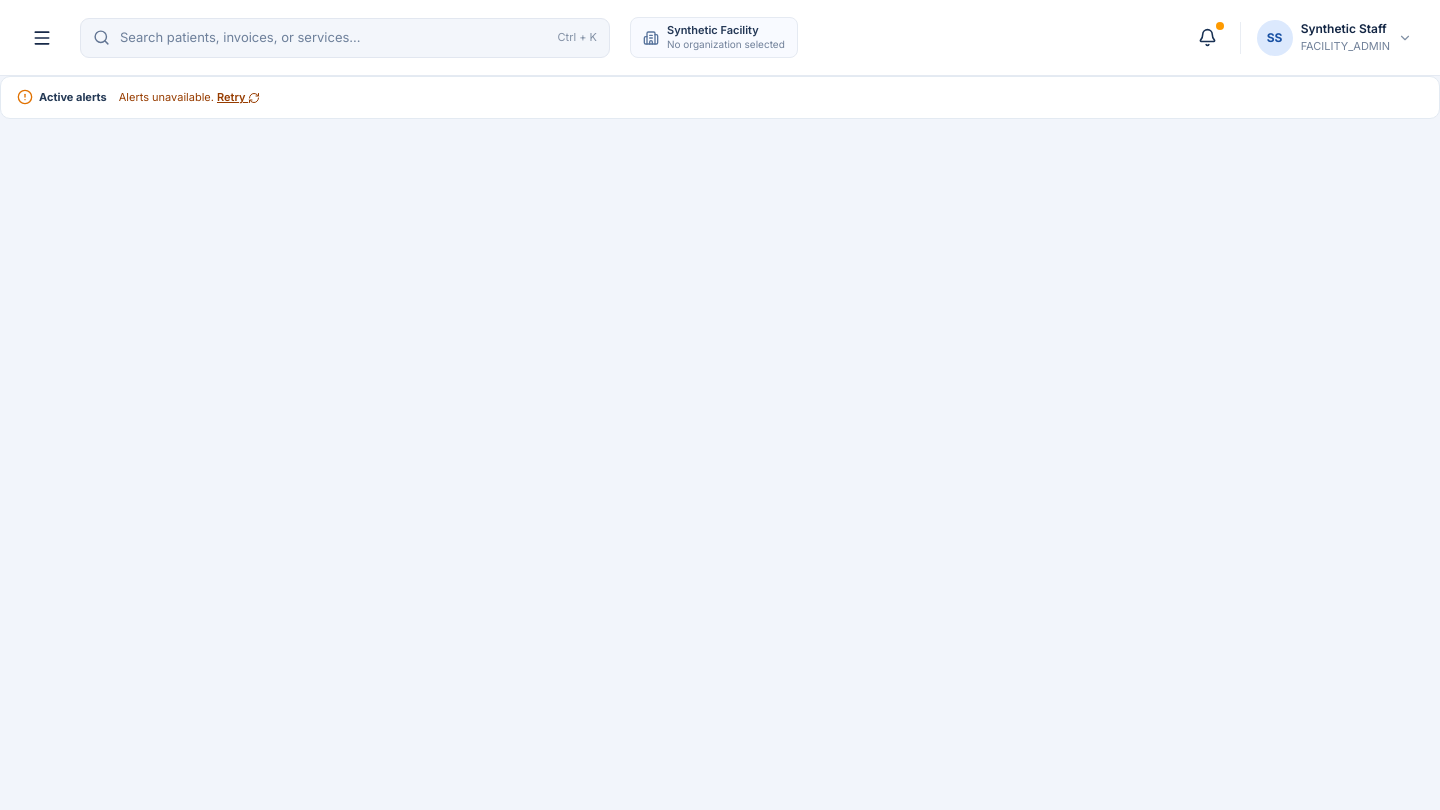
notification centre behavior › displays a failed request rather than a zero, and retries
The width and height of the screenshot is (1440, 810).
Expected: the text "Alerts unavailable. Retry" is shown, [119,89,260,106]
Click the button named "Notifications": (1208, 38) [1188,18,1228,58]
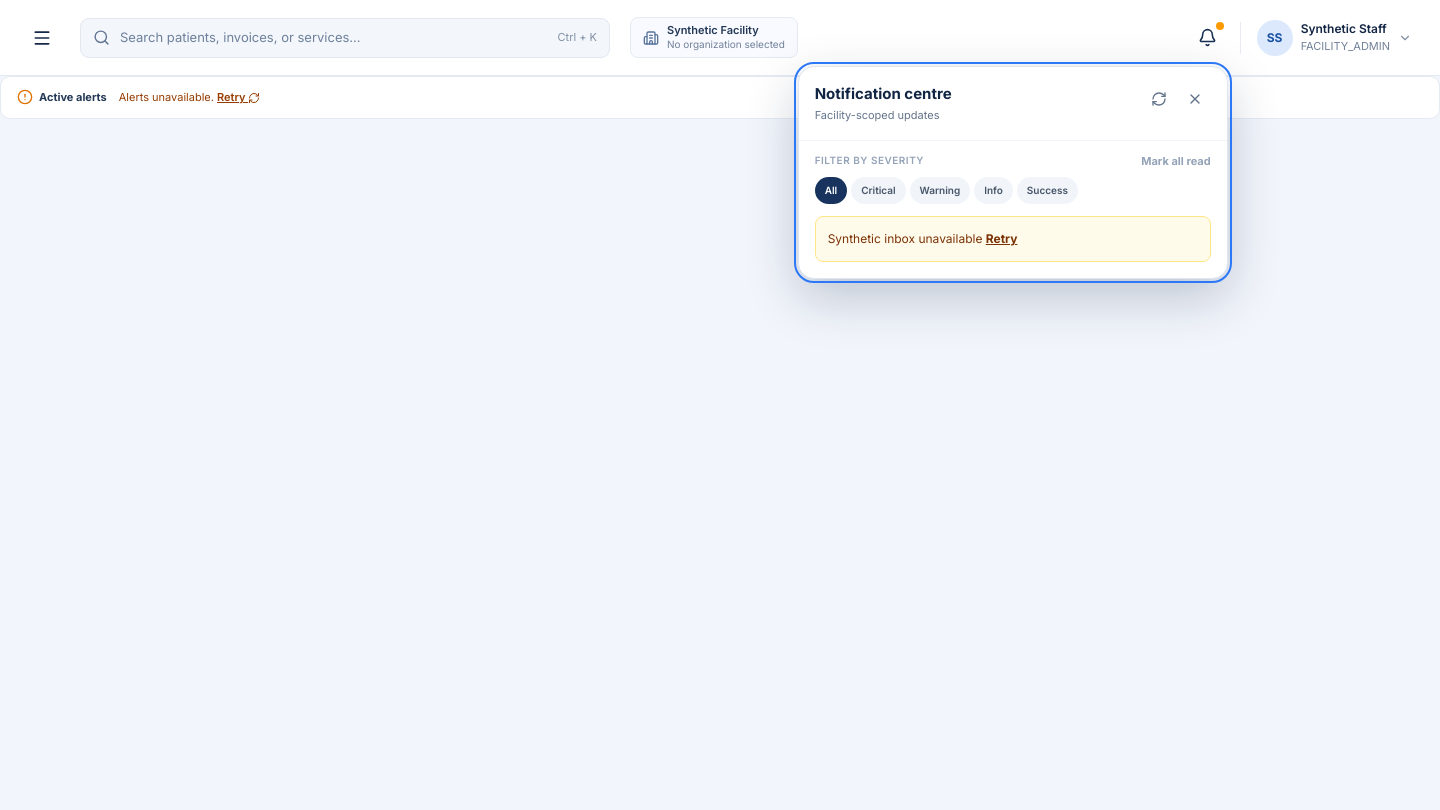
Expected: the message "Synthetic inbox unavailable Retry" is shown, [815,216,1211,262]
Click the button "Retry" next to "Synthetic inbox unavailable": (1002, 239) [986,229,1017,248]
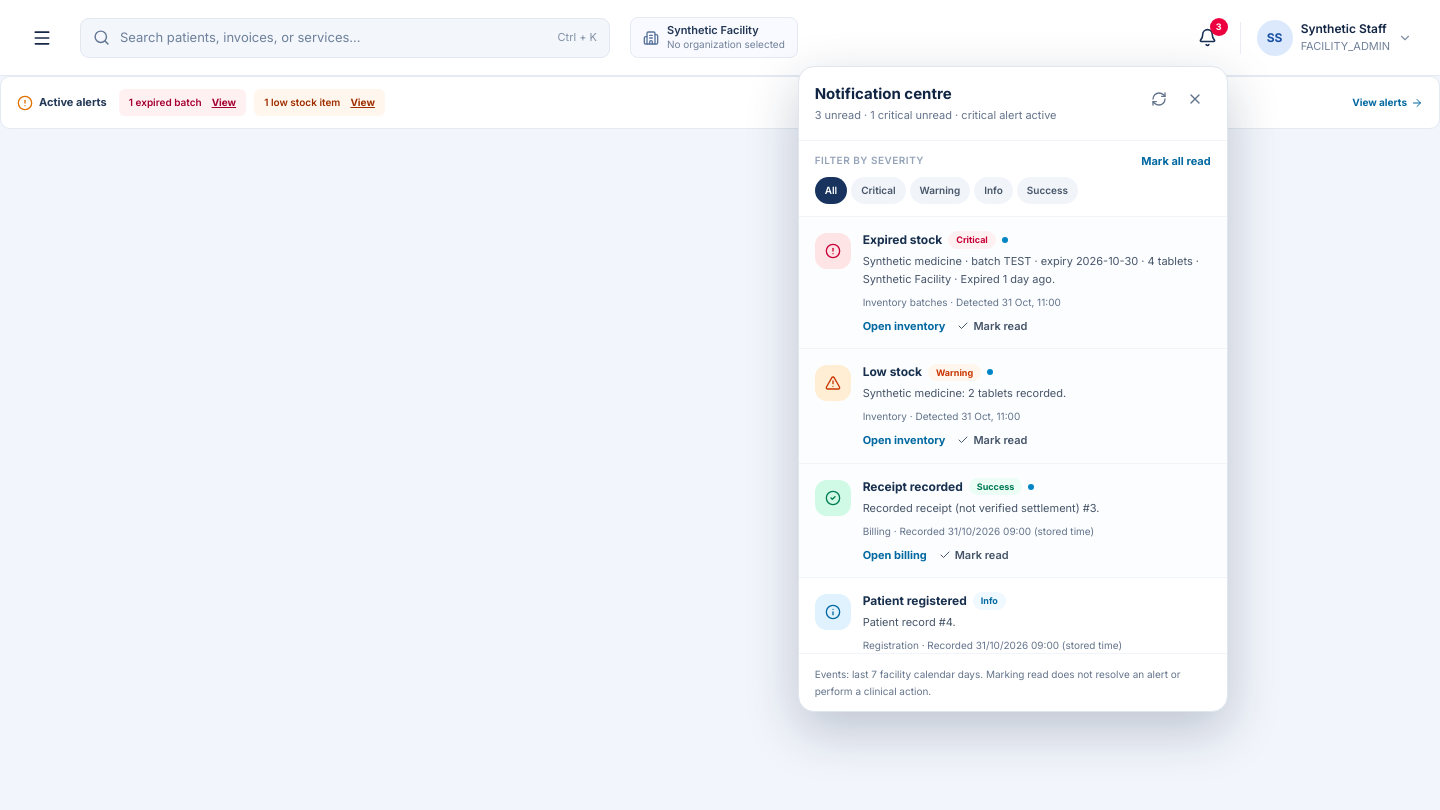
Expected: the button named "Notifications, 3 unread, critical alerts active" is shown, [1188,18,1228,58]
